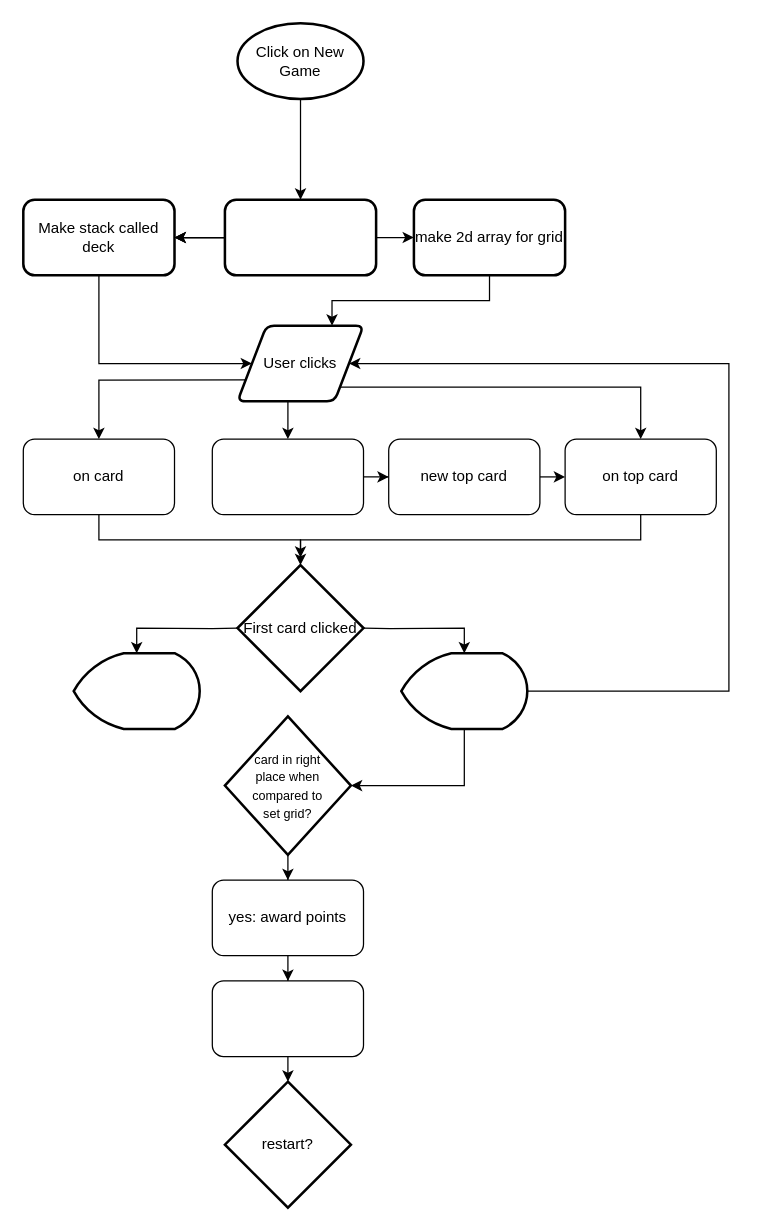
This 761x1230 diagram has some shape labels left out. The shapes that lost their labels are listed below. From the top down, each one's centre as x and y in pixels, then its label:
At point 300,237: "randomize cards in array.".
At point 287,476: "on deck".
At point 136,690: "yes: card will be moved later".
At point 463,690: "no: Move card to destination".
At point 287,1018: "Win if all points given".
